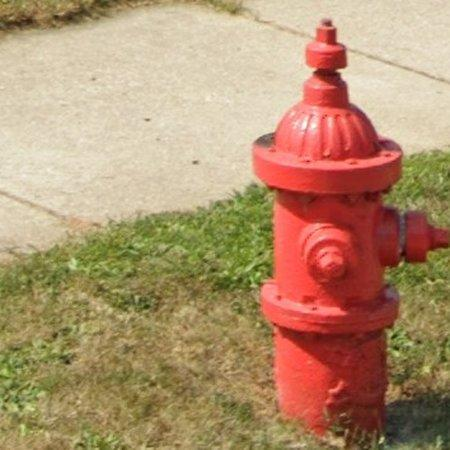a fire hydrant: (253, 19, 450, 435)
